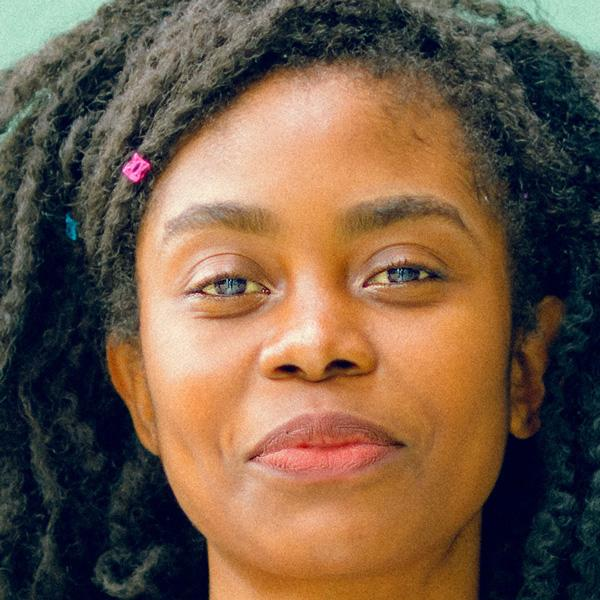Eyes: (174, 249, 279, 325), (355, 241, 455, 315)
